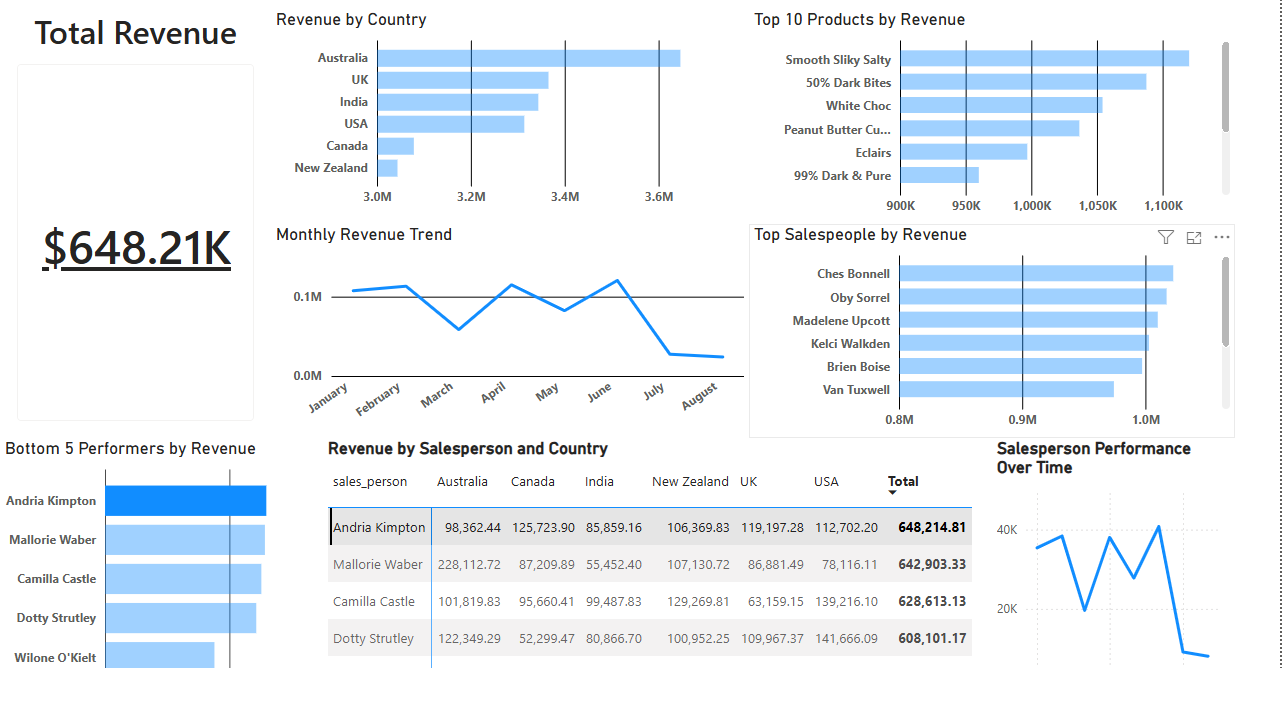

The page's visual inventory and layout, read from the dashboard file:
{"tool":"powerbi","page":{"name":"Page 1","canvas":[1280,720],"ordinal":0},"visuals":[{"type":"cardVisual","title":"Total Revenue","fields":{"Data":["Sum(public chocolate_sales.amount)"]},"box":[0,10.7,271.4,428.9],"z":0},{"type":"clusteredBarChart","title":"Revenue by Country","fields":{"Category":["public chocolate_sales.country"],"Y":["Sum(public chocolate_sales.amount)"]},"box":[271.4,10.7,477.6,215],"z":1000},{"type":"clusteredBarChart","title":"Top 10 Products by Revenue","fields":{"Category":["public chocolate_sales.product"],"Y":["Sum(public chocolate_sales.amount)"]},"box":[748.9,10.7,486.3,215],"z":2000},{"type":"lineChart","title":"Monthly Revenue Trend","fields":{"Category":["public chocolate_sales.sale_date.Variation.Date Hierarchy.Month"],"Y":["Sum(public chocolate_sales.amount)"]},"box":[271.4,225.7,477.6,214],"z":3000},{"type":"clusteredBarChart","title":"Top Salespeople by Revenue","fields":{"Category":["public chocolate_sales.sales_person"],"Y":["Sum(public chocolate_sales.amount)"]},"box":[748.9,225.7,486.3,214],"z":4000},{"type":"clusteredBarChart","title":"Bottom 5 Performers by Revenue","fields":{"Category":["public chocolate_sales.sales_person"],"Y":["Sum(public chocolate_sales.amount)"]},"box":[0,439.6,322.9,280.1],"z":5000},{"type":"pivotTable","title":"Revenue by Salesperson and Country","fields":{"Rows":["public chocolate_sales.sales_person"],"Columns":["public chocolate_sales.country"],"Values":["Sum(public chocolate_sales.amount)"]},"box":[322.9,439.6,697.4,280.1],"z":6000},{"type":"lineChart","title":"Salesperson Performance Over Time","fields":{"Y":["Sum(public chocolate_sales.amount)"],"Category":["public chocolate_sales.sale_date.Variation.Date Hierarchy.Year","public chocolate_sales.sale_date.Variation.Date Hierarchy.Month"]},"box":[992.1,439.6,243.2,280.1],"z":7000}]}

Visuals, with their boxes in screenshot pixels (x1, y1, x2, y2), scaled from the page's 1280x720 canvas onto the 1283x715 screenshot:
"Total Revenue" cardVisual: bbox=[0, 11, 272, 437]
"Revenue by Country" clusteredBarChart: bbox=[272, 11, 751, 224]
"Top 10 Products by Revenue" clusteredBarChart: bbox=[751, 11, 1238, 224]
"Monthly Revenue Trend" lineChart: bbox=[272, 224, 751, 437]
"Top Salespeople by Revenue" clusteredBarChart: bbox=[751, 224, 1238, 437]
"Bottom 5 Performers by Revenue" clusteredBarChart: bbox=[0, 437, 324, 714]
"Revenue by Salesperson and Country" pivotTable: bbox=[324, 437, 1023, 714]
"Salesperson Performance Over Time" lineChart: bbox=[994, 437, 1238, 714]
